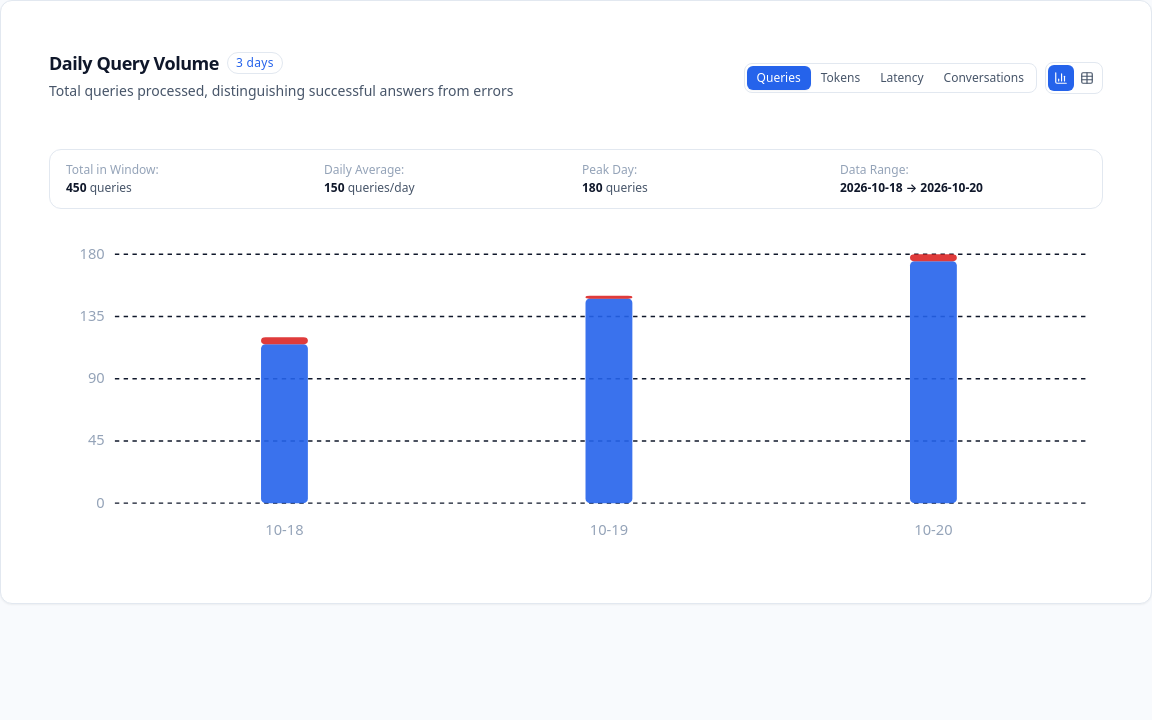
Admin Analytics & Audit Log UI — Milestone 6 Integration › 2. TrendChart Component › switches between query, token, latency, and conversation metrics
# Switch to Token Consumption
Click the button "Tokens" at (840, 78), box [811, 66, 870, 90]
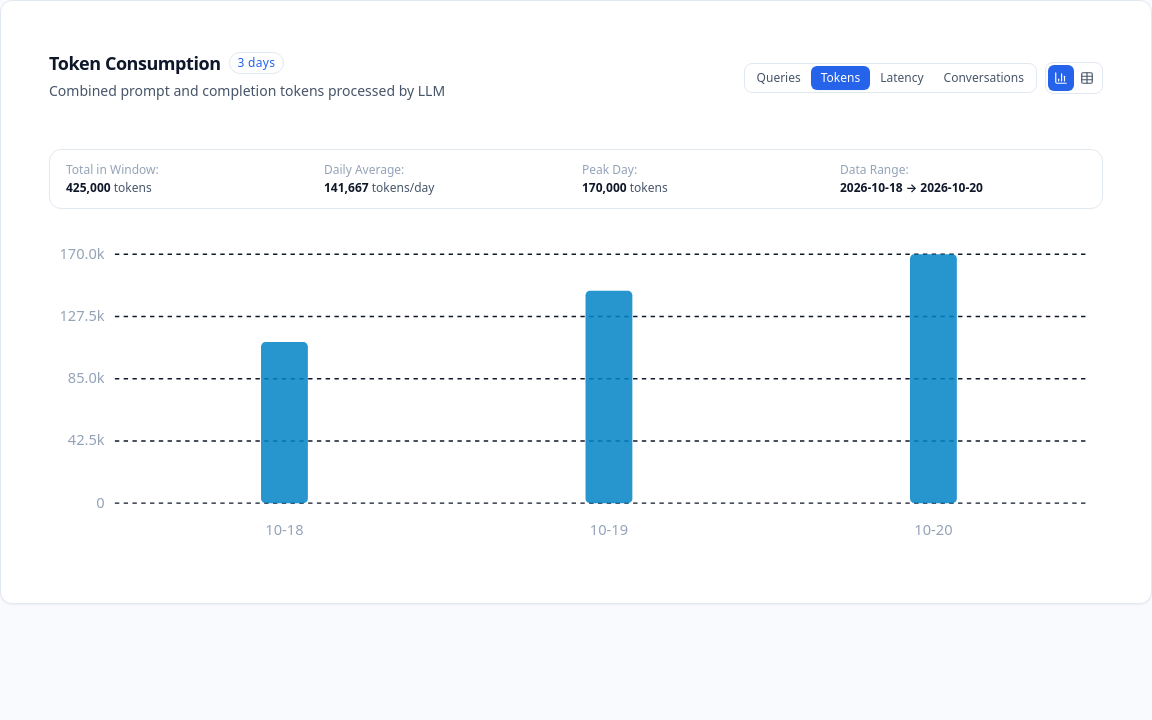
Expected: the heading "Token Consumption" is shown, [49, 49, 220, 77]
# Switch to Latency
Click the button "Latency" at (902, 78), box [870, 66, 934, 90]
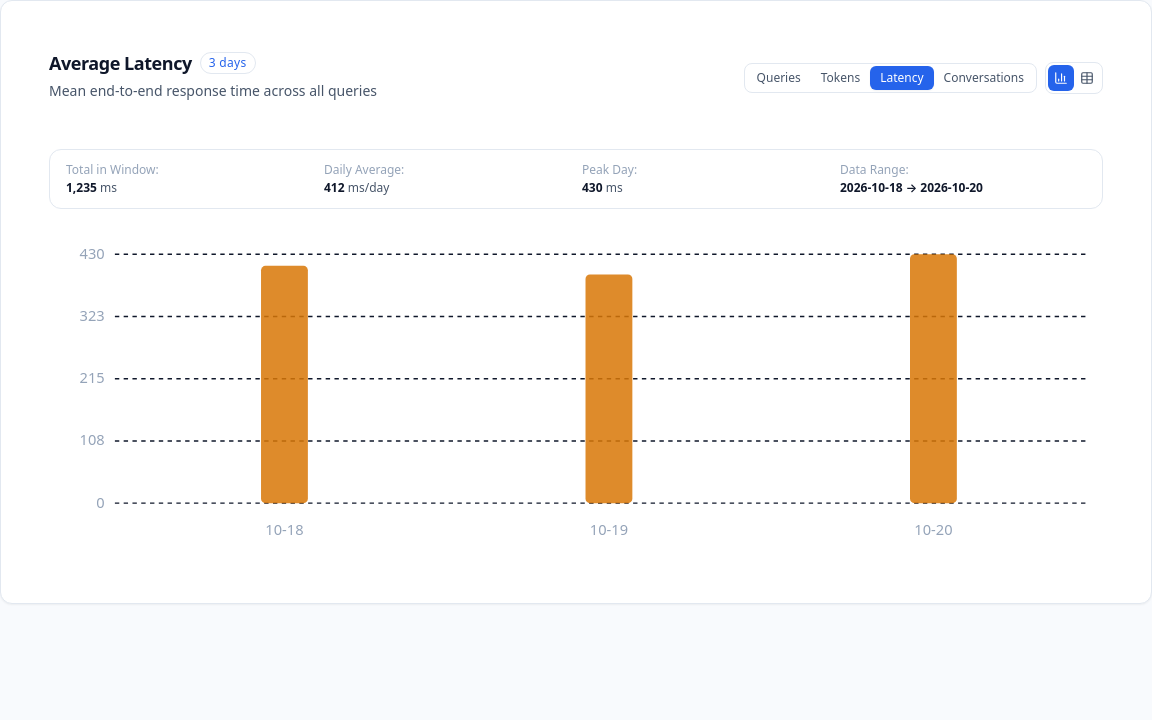
Expected: the heading "Average Latency" is shown, [49, 49, 192, 77]
# Switch to Conversations
Click the button "Conversations" at (984, 78), box [934, 66, 1034, 90]
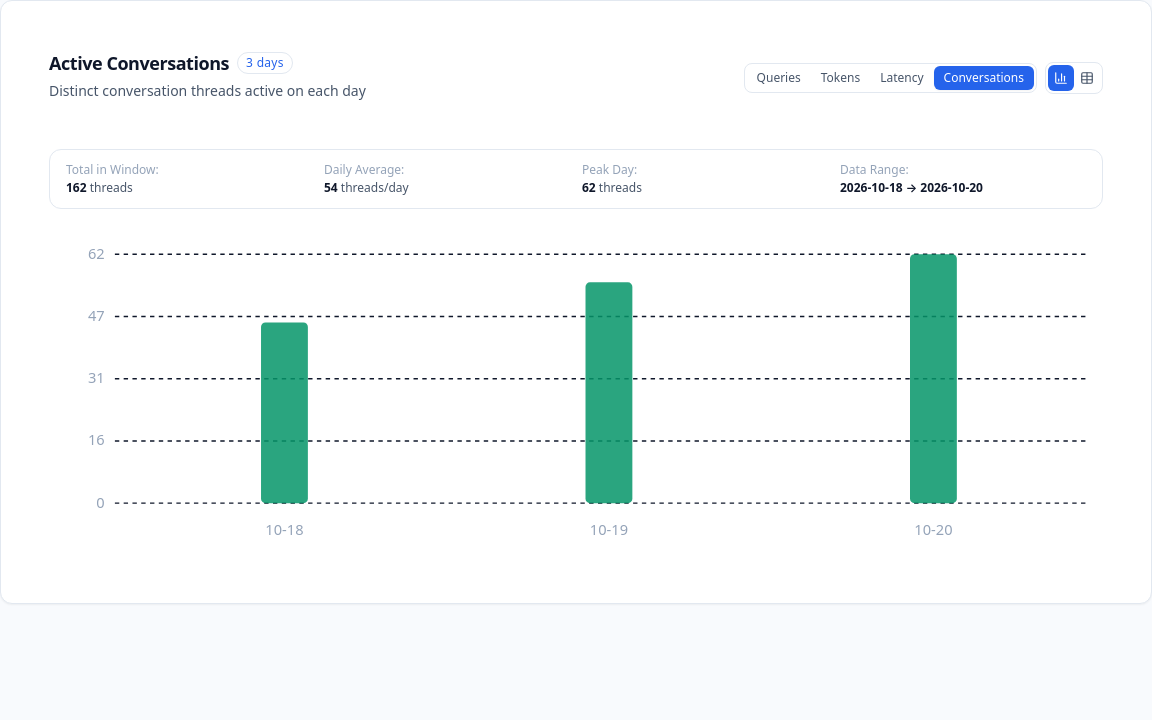
Expected: the heading "Active Conversations" is shown, [49, 49, 229, 77]
